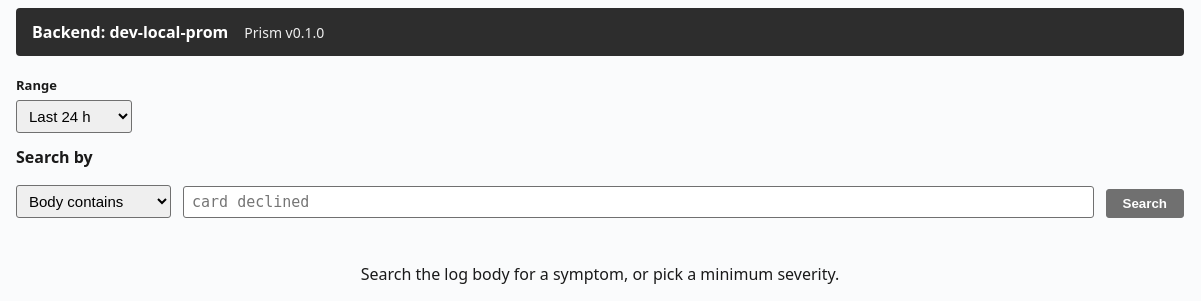
Slice 08 logs outcome arms — the page never blanks › renders a calm empty state when no logs match
This screenshot has width=1201, height=301.
In the field with test id "log-body-input": coordinates (638, 202) left=183, top=186, right=1094, bottom=218, type "nothing matches"
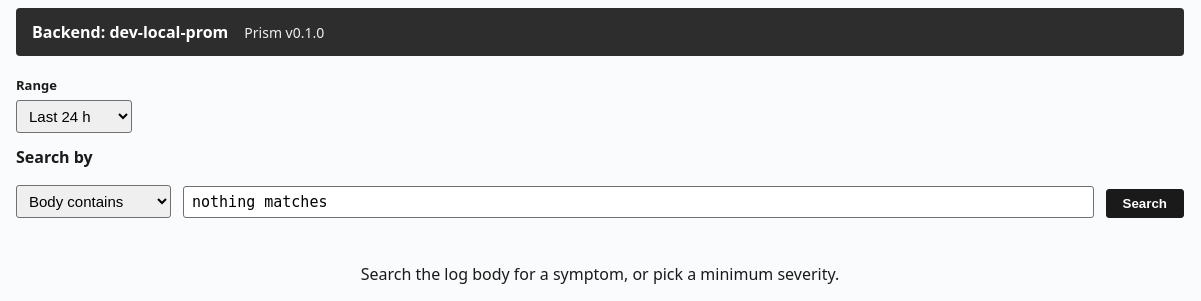
Click the button with test id "log-run-button": coordinates (1145, 203) left=1106, top=188, right=1184, bottom=218
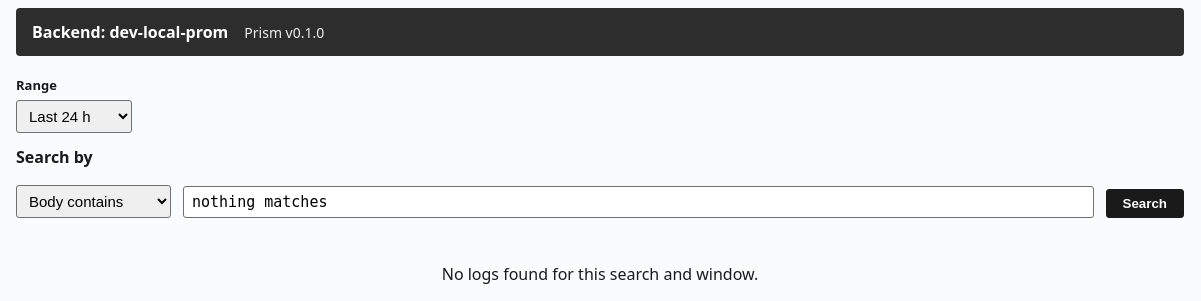
Expected: the text with test id "logs-empty-state" reads "No logs found for this search and window.", left=442, top=262, right=758, bottom=284
